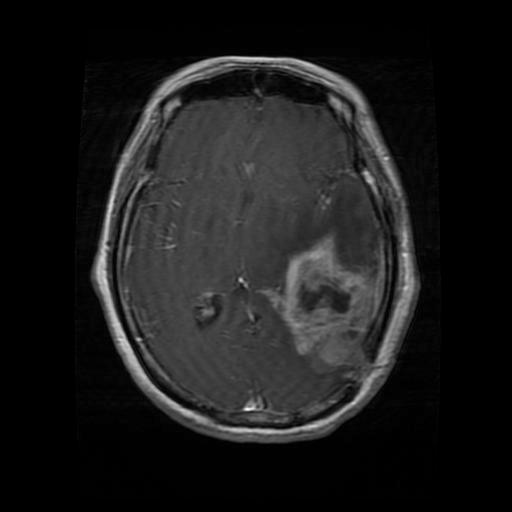Tumour-Glioma: (279, 241, 381, 350)
